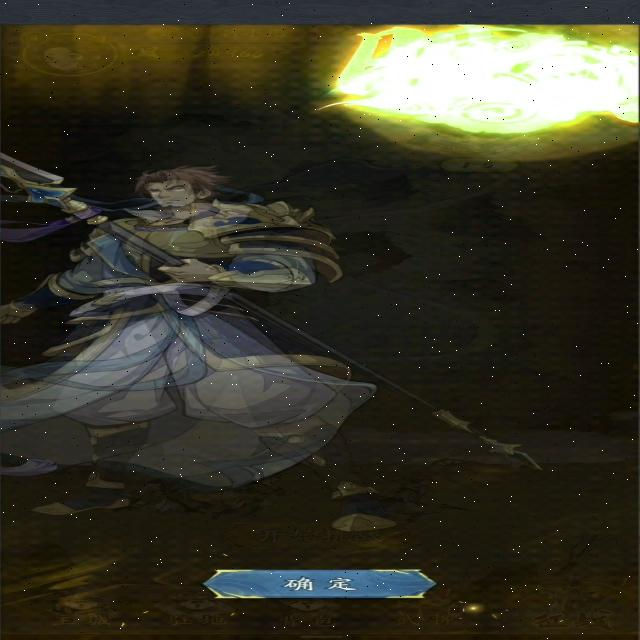operation-confirm: (198, 566, 437, 602)
